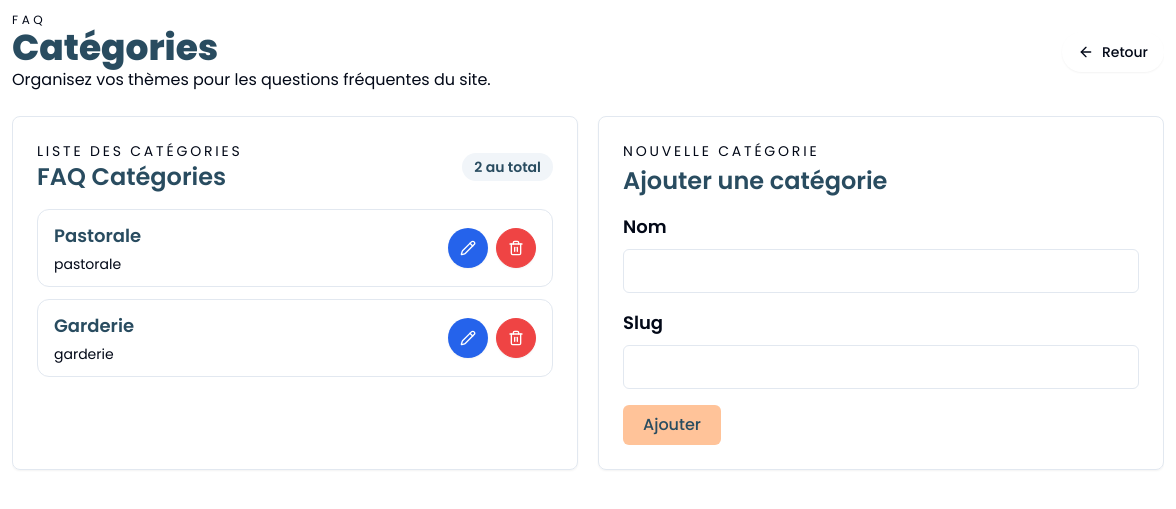
Test case: FaqCategoriesBoard › soumet le formulaire et redirige
Step 1. Type "Nouvelle" into the field below "Nom" → (881, 271), box [623,249,1139,293]
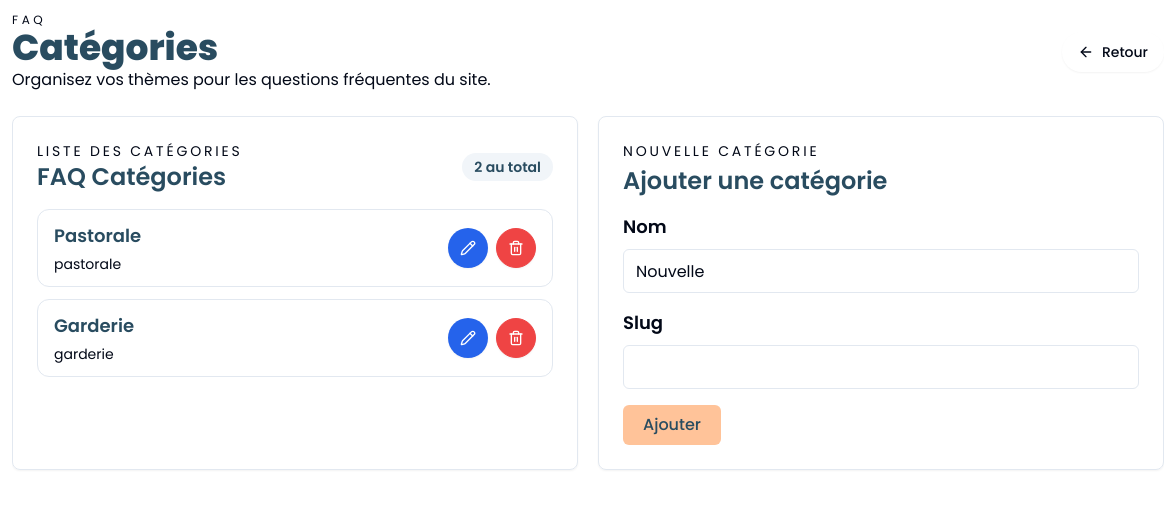
Step 2. Type "nouvelle" into the field below "Slug" → (881, 367), box [623,345,1139,389]
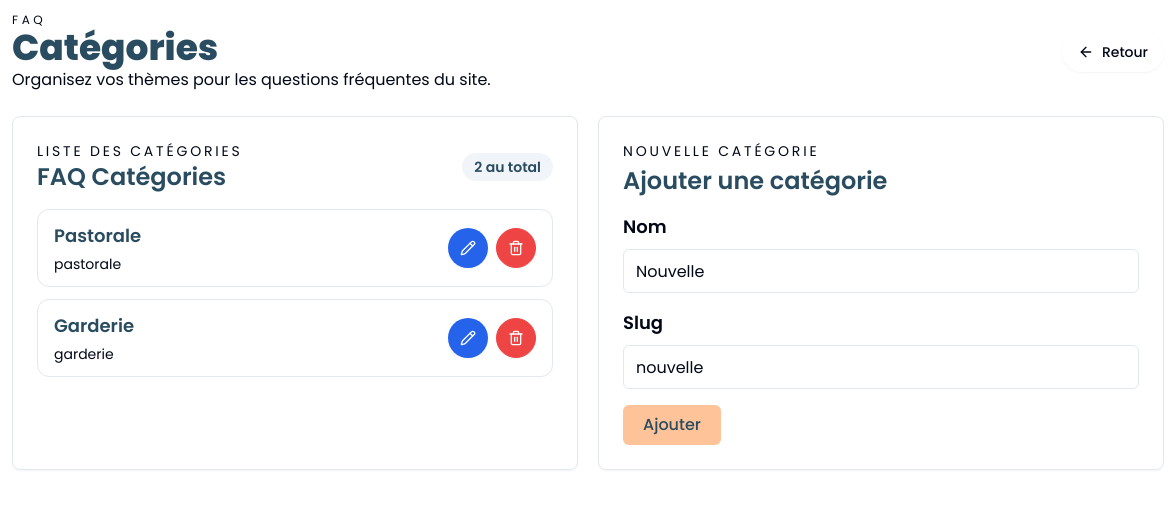
Step 3. Click the button "Ajouter" → (672, 425), box [623,405,721,445]
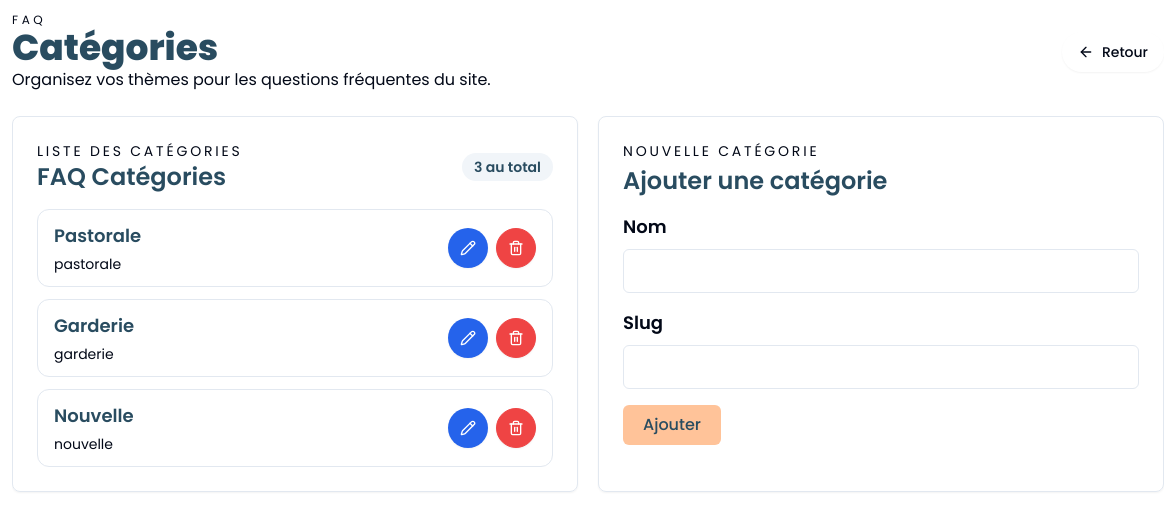
Expected: the text "Nouvelle" is shown, [54,402,134,430]
